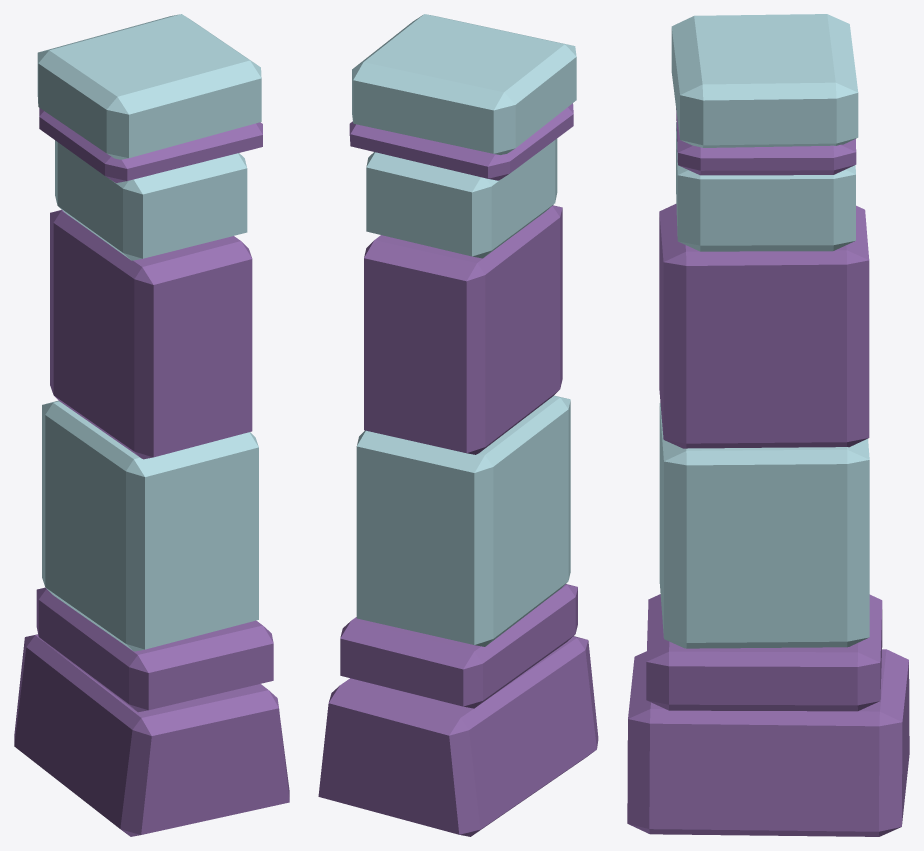
Rendered from SM_NewMiddle.fbx.
3 views of the same model, side by side, from view 1: azimuth 30°, elevation 25°; view 2: azimuth 150°, elevation 25°; view 3: azimuth 270°, elevation 25° (orthographic). The views are drawn at different scales.
Parts seen in each view (by area): view 1: FenceMiddle; view 2: FenceMiddle; view 3: FenceMiddle.
Part boxes in pixels (<box>): FenceMiddle: <box>14,14,289,836</box>; FenceMiddle: <box>318,14,598,836</box>; FenceMiddle: <box>627,14,909,836</box>.
Size of the model in its own units: 101 by 409 by 140.
